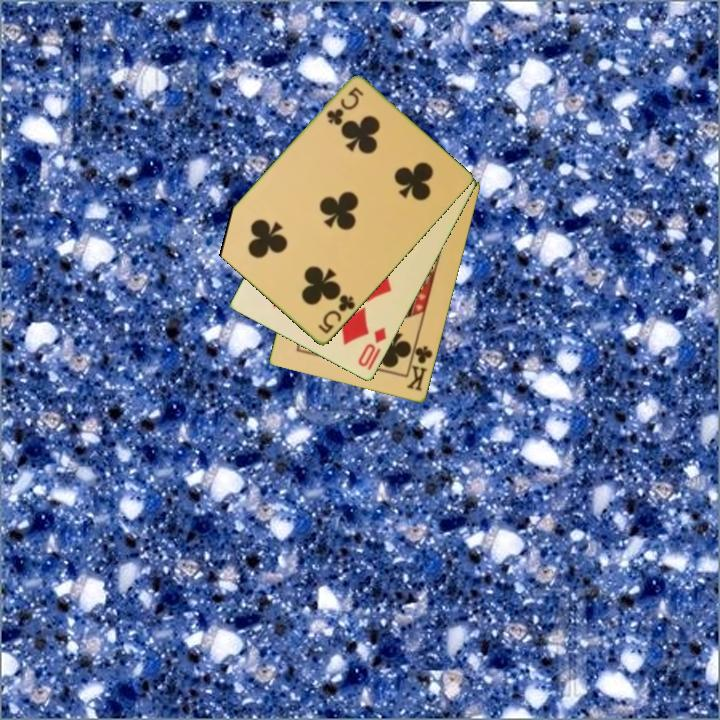10d: (354, 324, 389, 370)
5c: (323, 84, 367, 129), (315, 291, 358, 337)
Kc: (403, 338, 436, 394)
